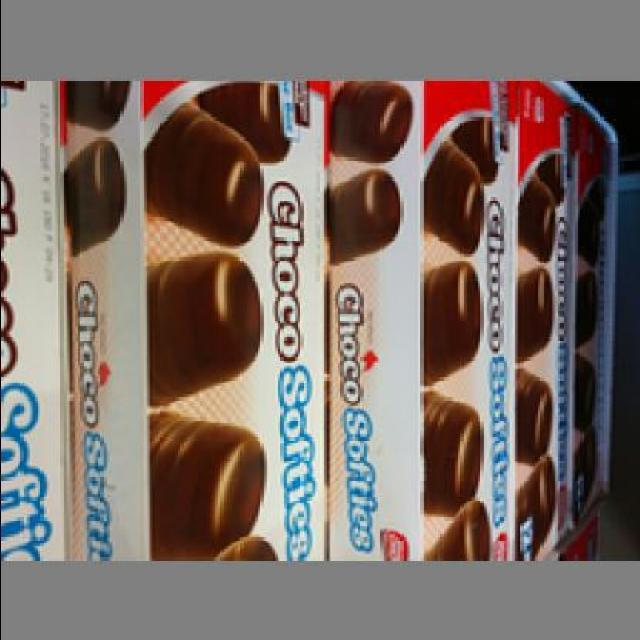Merendine: (80, 72, 326, 556), (332, 77, 508, 557), (512, 80, 576, 560)
